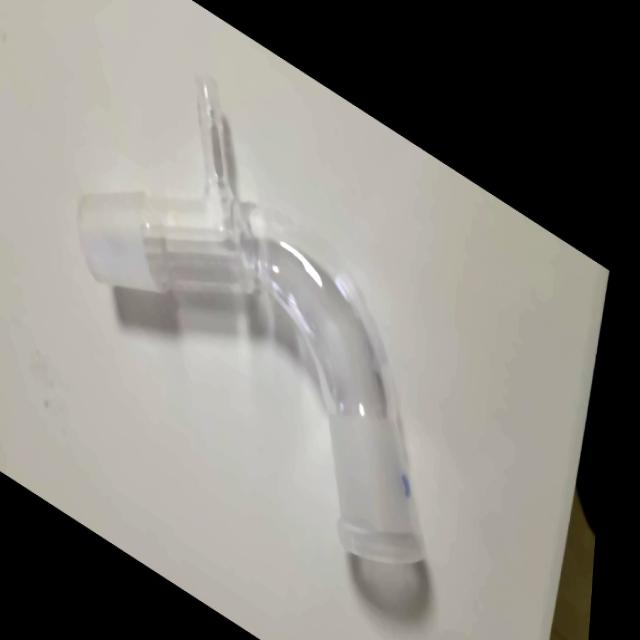Angled Extension for Vacuum Distillation: (59, 0, 468, 621)
